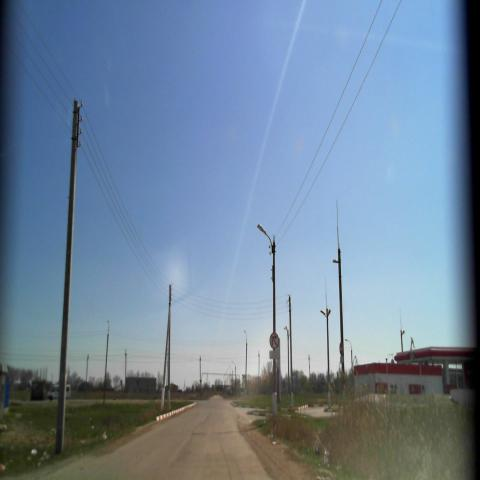3_18: (269, 330, 280, 350)
